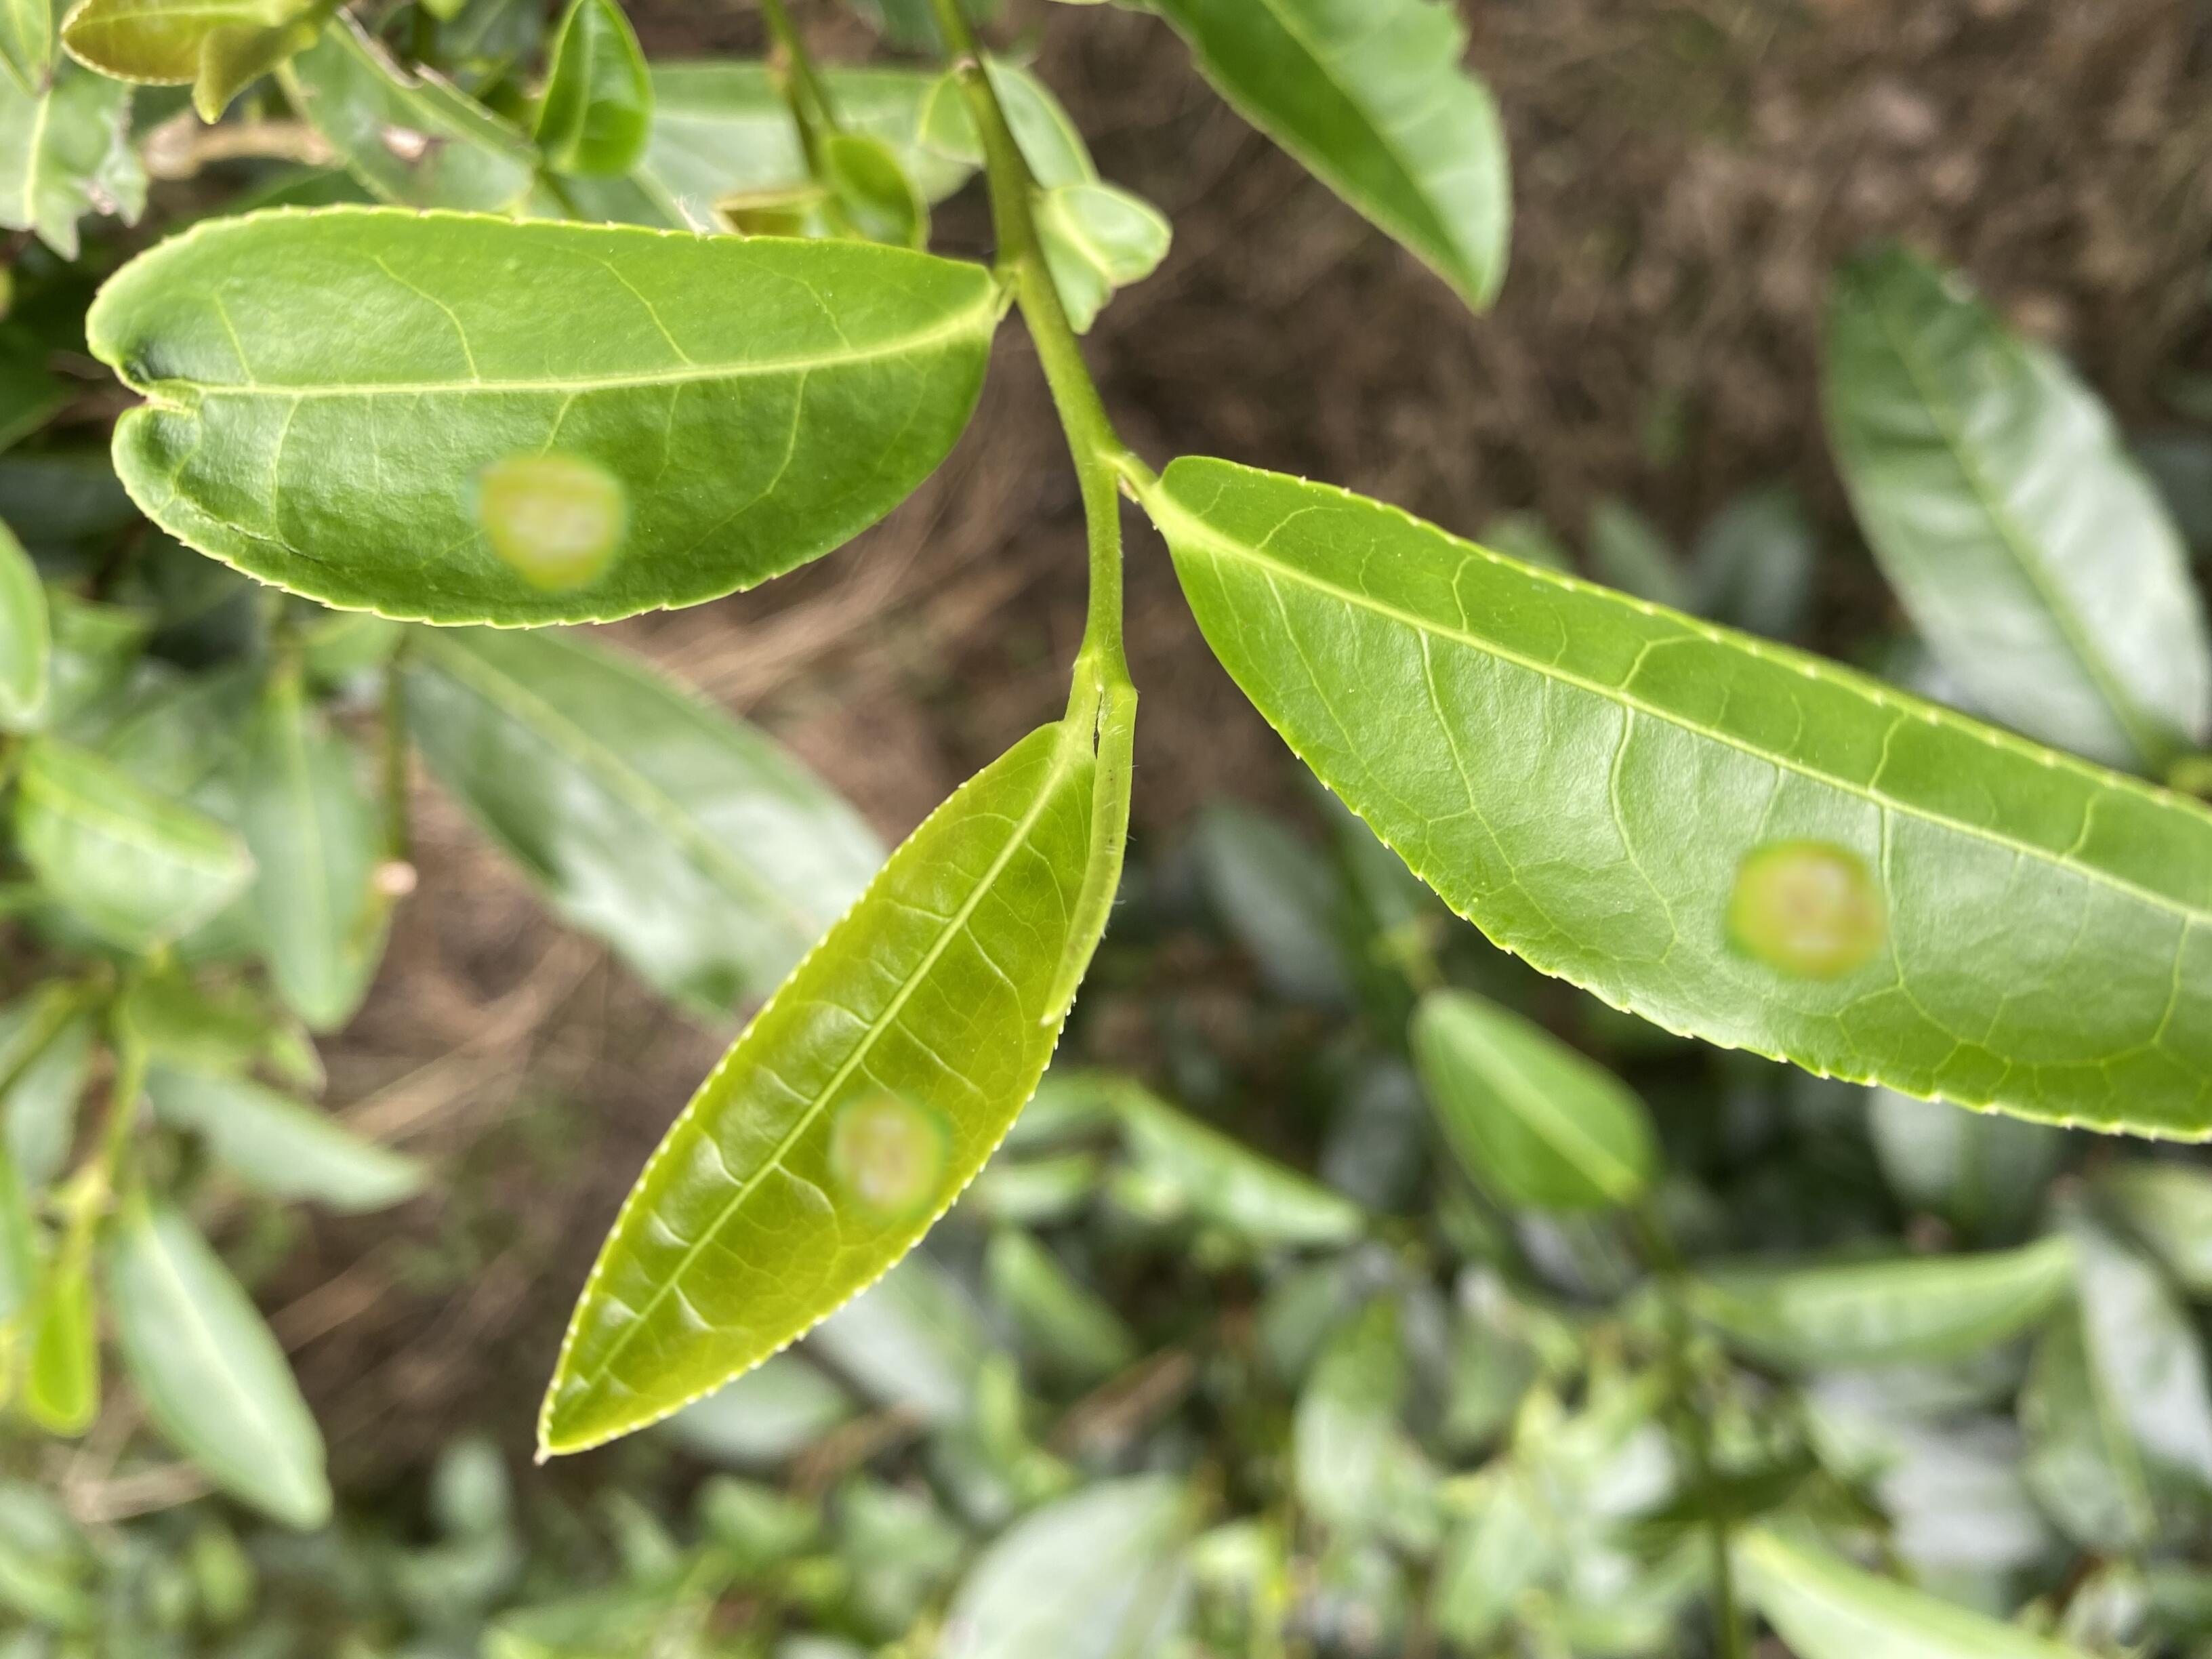chabing_low: (1158, 455, 2209, 1143), (535, 720, 1103, 1467), (80, 197, 1001, 631)
